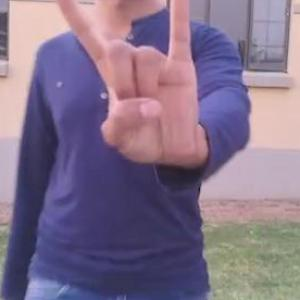takeoff-hand: (50, 0, 202, 171)
